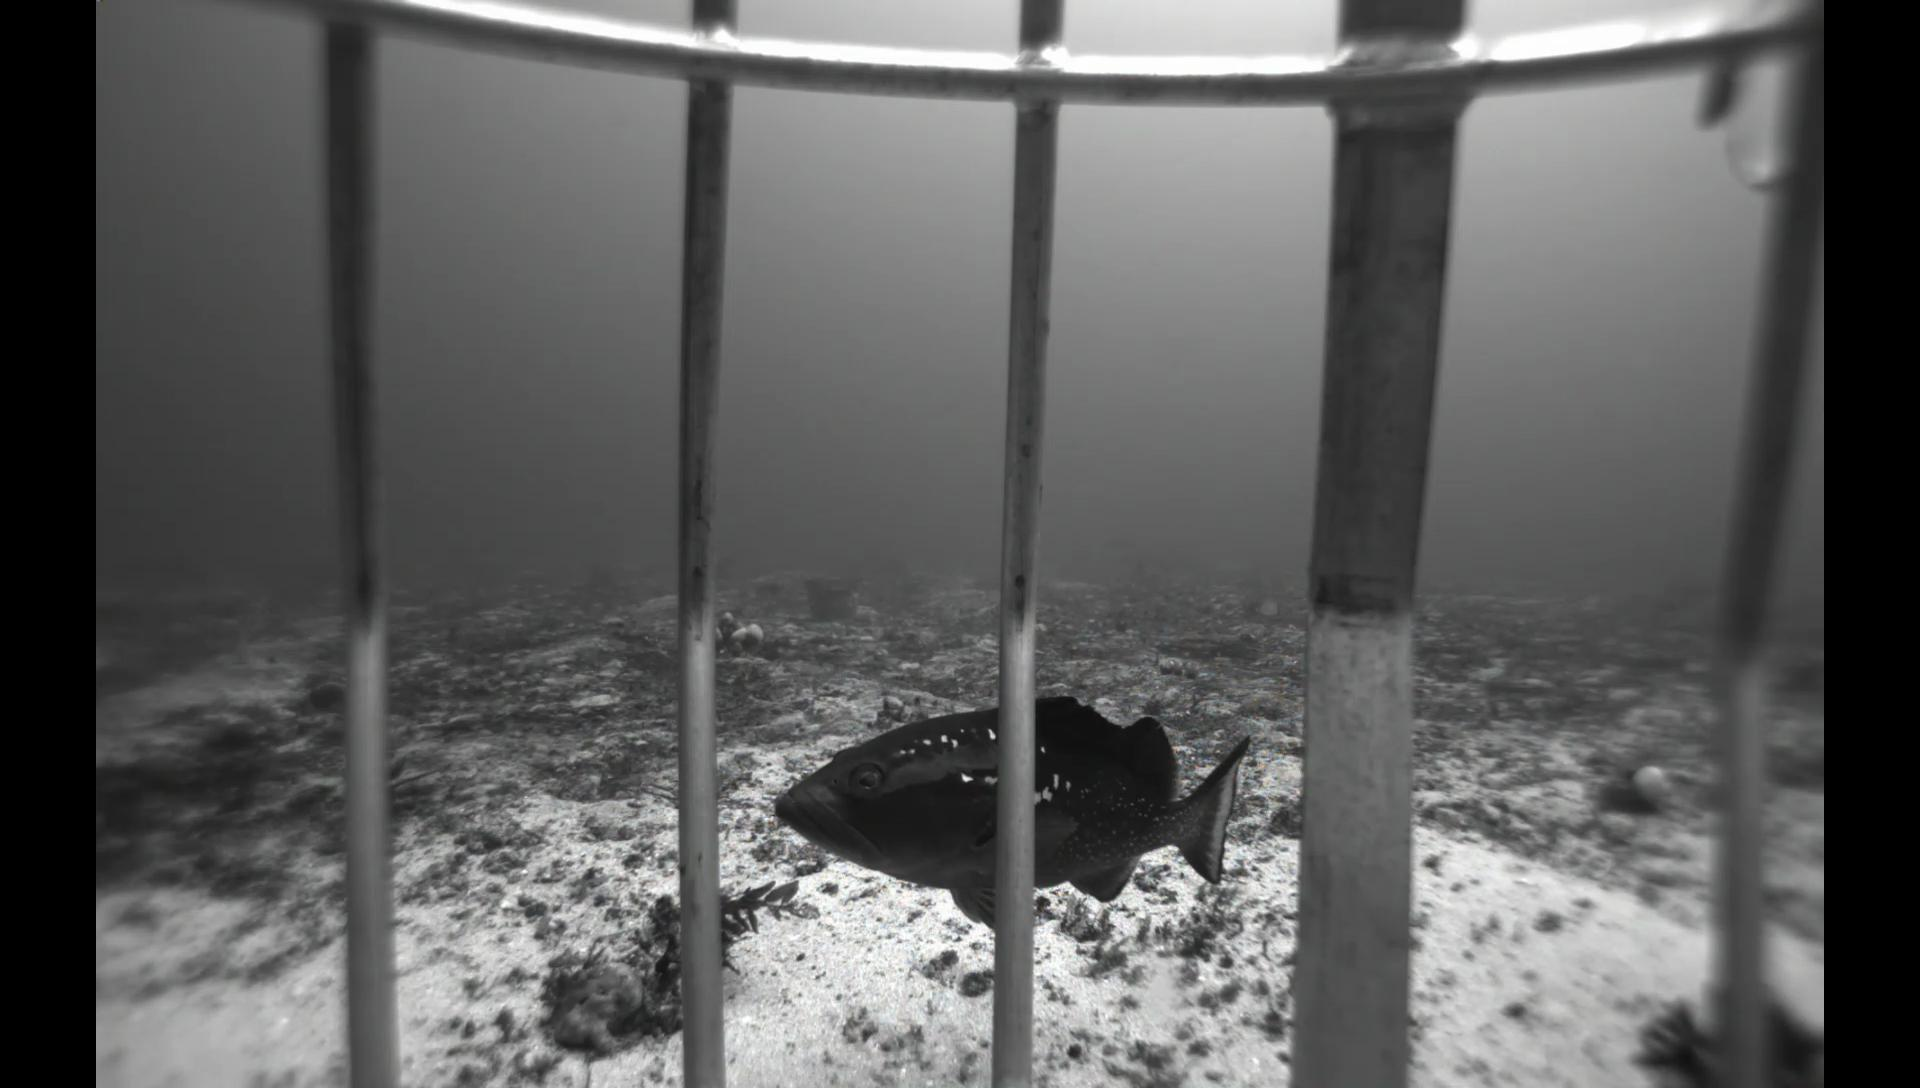CHAETODONOCELLATUS-170260307: (1250, 595, 1284, 620)
EPINEPHELUSMORIO-170021211: (765, 691, 1249, 942)
PRISTIGENYSALTA-170050401: (297, 678, 347, 721)
